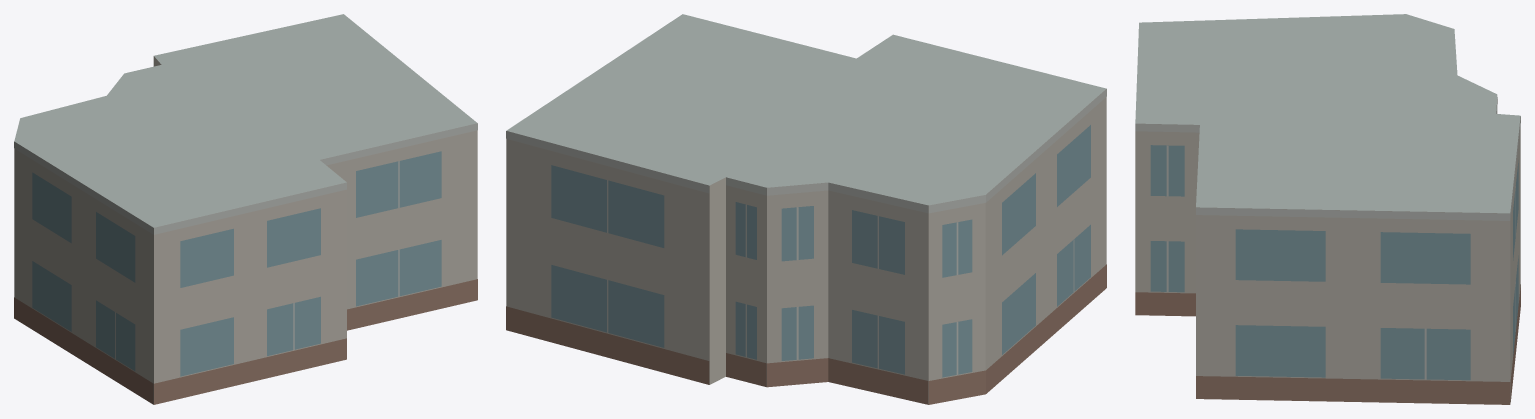
The model's file is survey-upis-32898913.glb.
3 renders of one model, left to right at view 1: azimuth 30°, elevation 25°; view 2: azimuth 150°, elevation 25°; view 3: azimuth 270°, elevation 25°, orthographic. The views are drawn at different scales.
Visible parts, largest first — view 1: survey-upis-32898913.tmp; view 2: survey-upis-32898913.tmp; view 3: survey-upis-32898913.tmp.
Boxes of the visible parts, x1,y1,x2,y2 form: survey-upis-32898913.tmp: (14, 14, 477, 404); survey-upis-32898913.tmp: (506, 14, 1106, 404); survey-upis-32898913.tmp: (1135, 14, 1520, 404).
Size of the model in its own units: 13.63 by 6.1 by 11.14.
